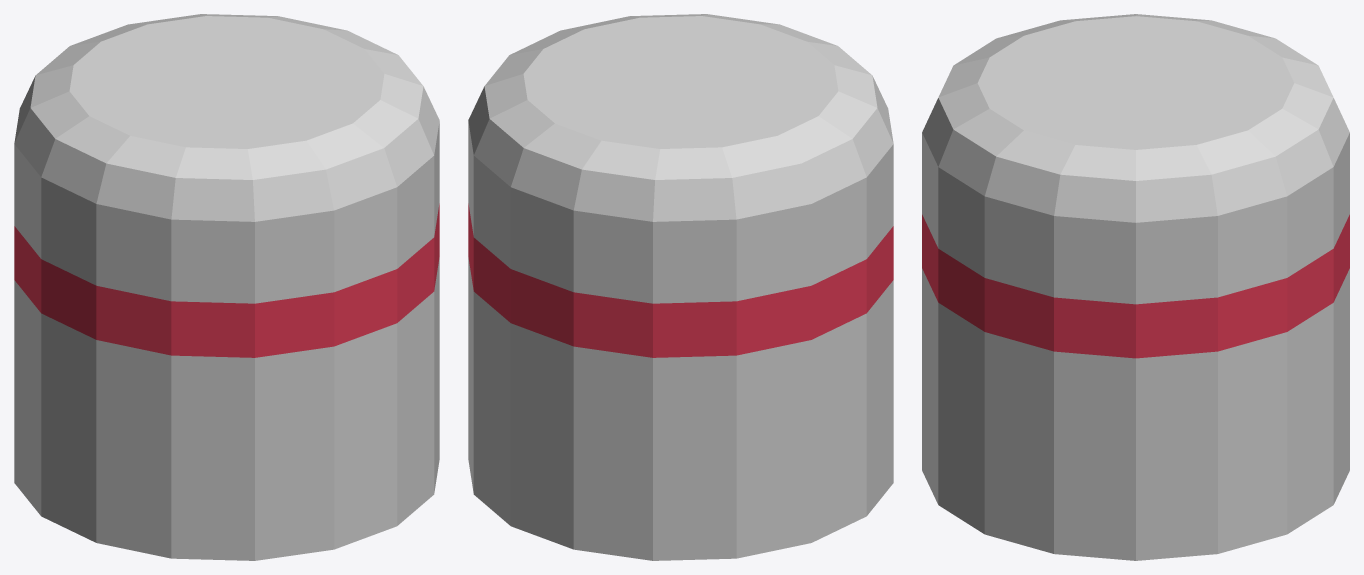
File: WindputTop.fbx
3 views of the same model, side by side, from view 1: azimuth 30°, elevation 25°; view 2: azimuth 150°, elevation 25°; view 3: azimuth 270°, elevation 25° (orthographic).
Visible parts, largest first — view 1: Cylinder.001; view 2: Cylinder.001; view 3: Cylinder.001.
Boxes of the visible parts, left/top/right/bottom form: Cylinder.001: left=14, top=14, right=439, bottom=560; Cylinder.001: left=468, top=14, right=893, bottom=560; Cylinder.001: left=922, top=14, right=1349, bottom=560.
Size of the model in its own units: 208 by 208 by 208.
